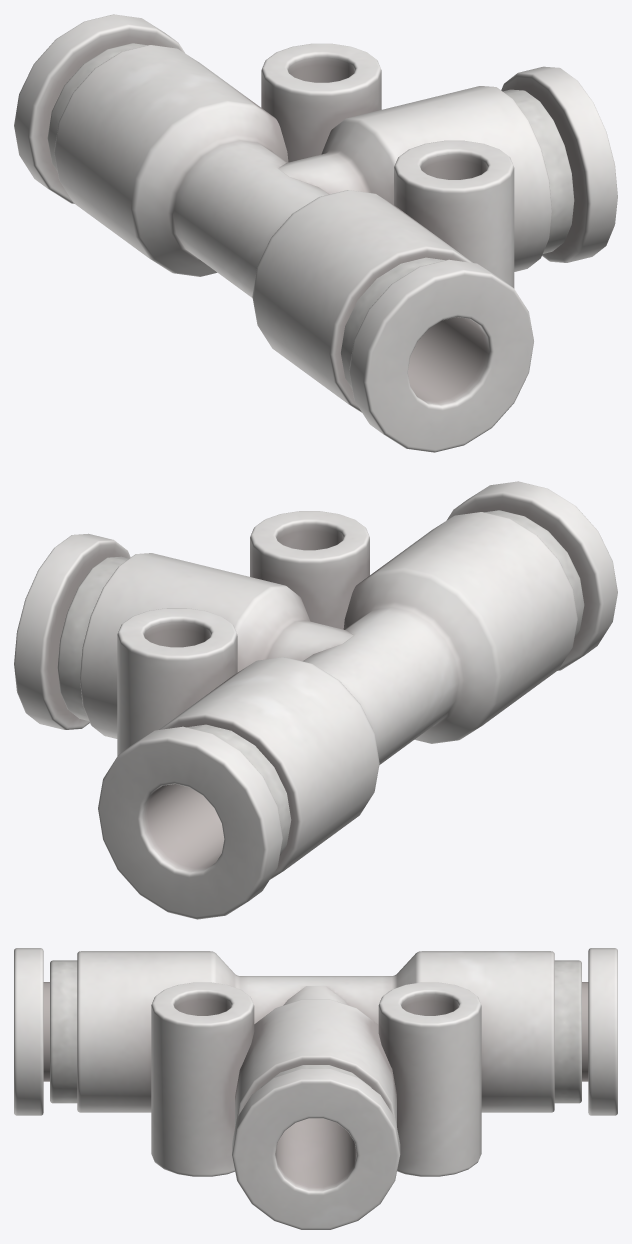
File: T型三通快插气动接头.fbx
3 views of the same model, one above another, from view 1: azimuth 30°, elevation 25°; view 2: azimuth 150°, elevation 25°; view 3: azimuth 270°, elevation 25° (orthographic). The views are drawn at different scales.
Visible parts, largest first — view 1: T型三通快插气动接头; view 2: T型三通快插气动接头; view 3: T型三通快插气动接头.
Part boxes in pixels (box(x1,y1,x2,y2)): T型三通快插气动接头: box(14, 14, 617, 452); T型三通快插气动接头: box(14, 481, 617, 919); T型三通快插气动接头: box(14, 948, 617, 1229).
Bounding box in the file's own units: 4.79 × 2.15 × 7.68.
